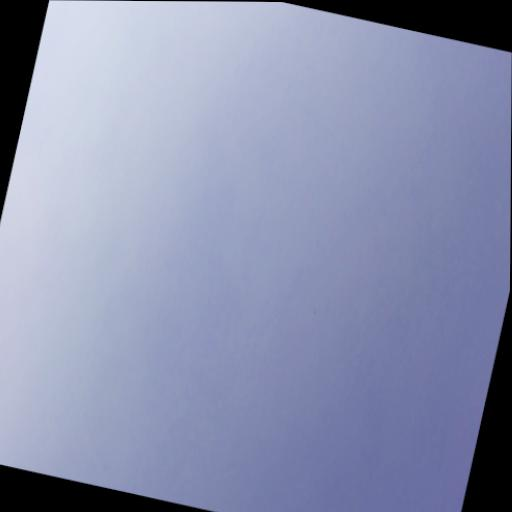drones: (313, 308, 317, 315)
